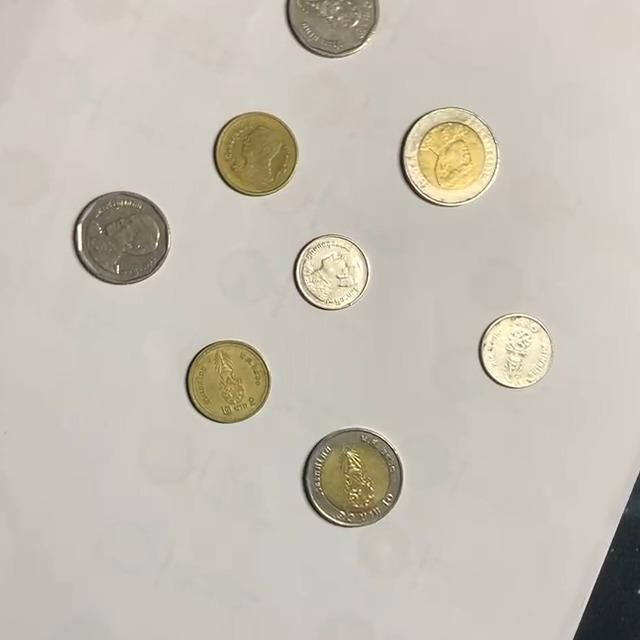1-baht: (478, 313, 556, 390), (294, 235, 372, 312)
10-baht: (402, 106, 501, 206), (304, 429, 404, 528)
2-baht: (214, 111, 300, 196), (186, 339, 272, 423)
5-baht: (74, 190, 173, 286), (285, 0, 380, 59)
